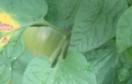Tomato Early blight leaf: (0, 0, 62, 72)
